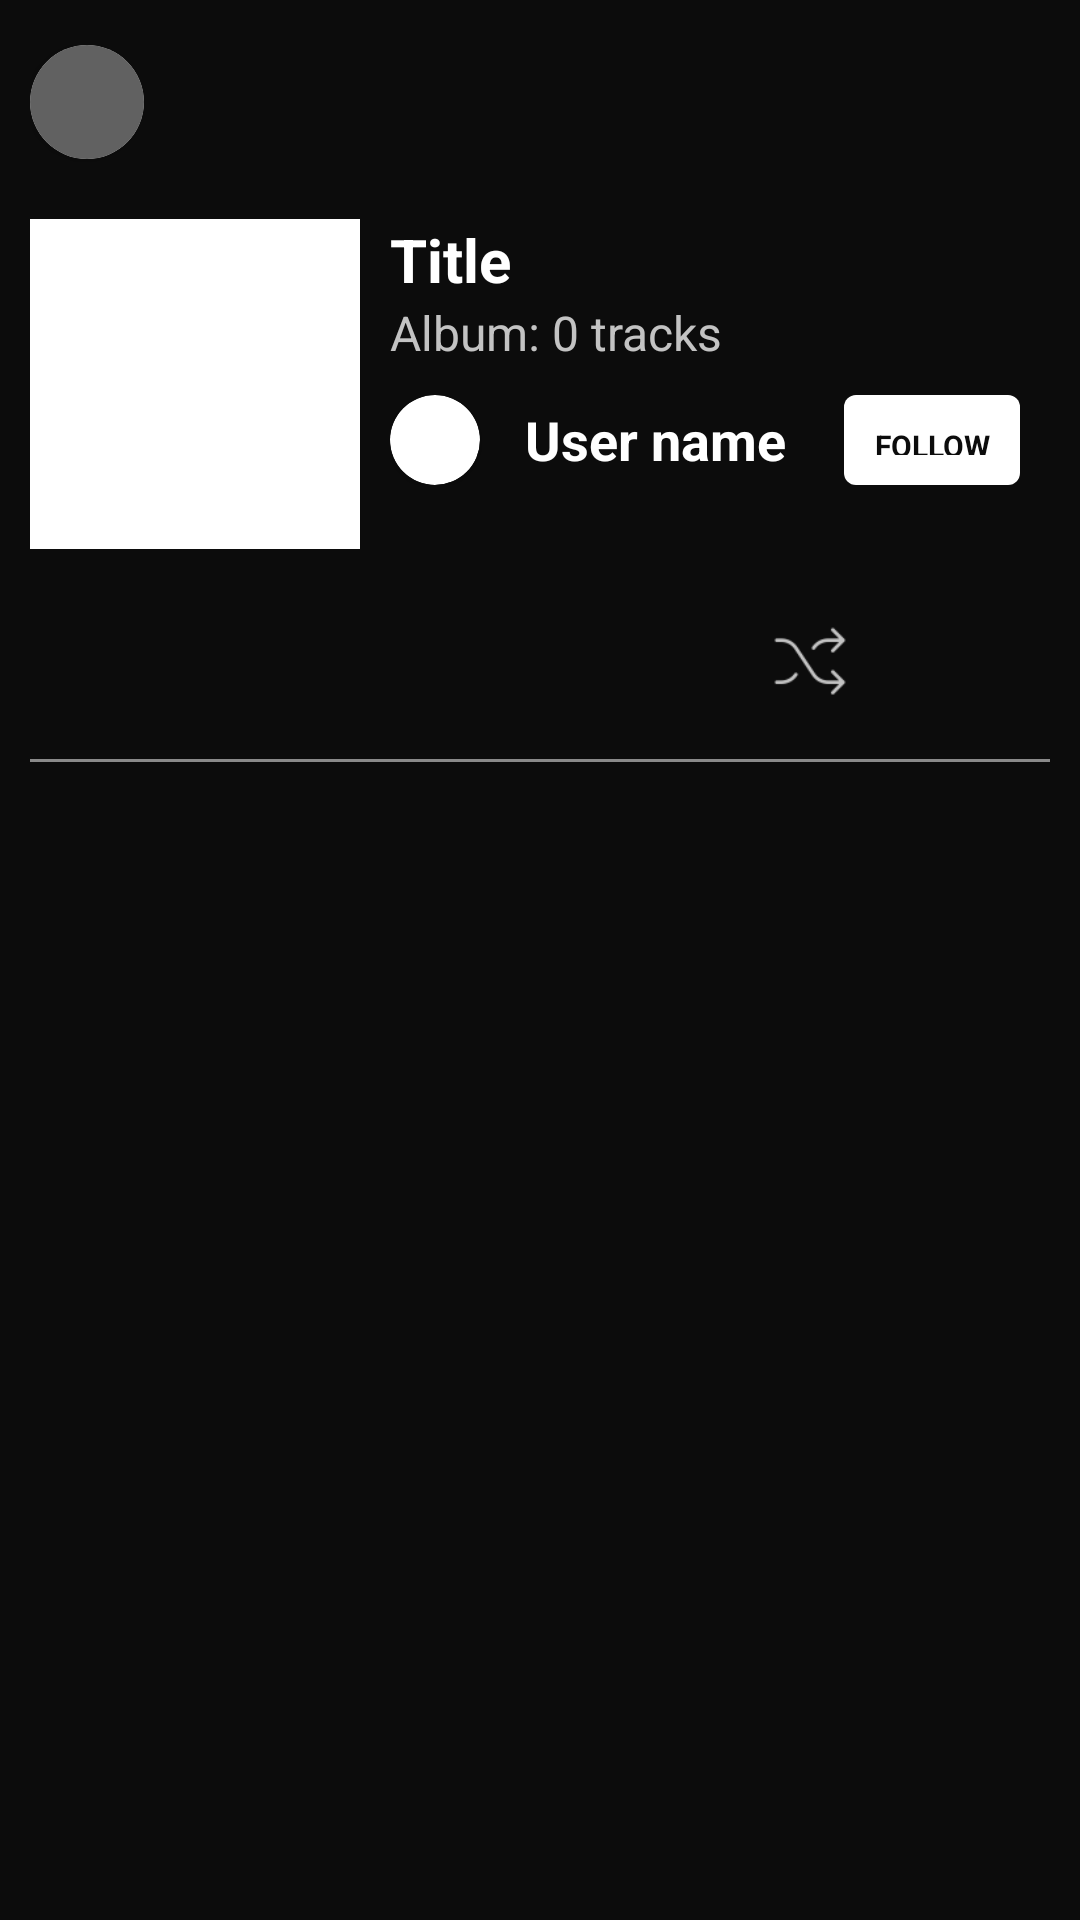

Icons on this 1080 x 1920 Android screen, each with its box as (x1, y1, x2, y2):
random: (774, 627, 846, 695)
